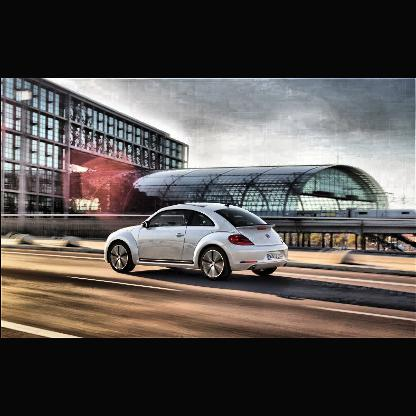Volkswagen Beetle Hatchback 2012: (105, 203, 289, 281)
